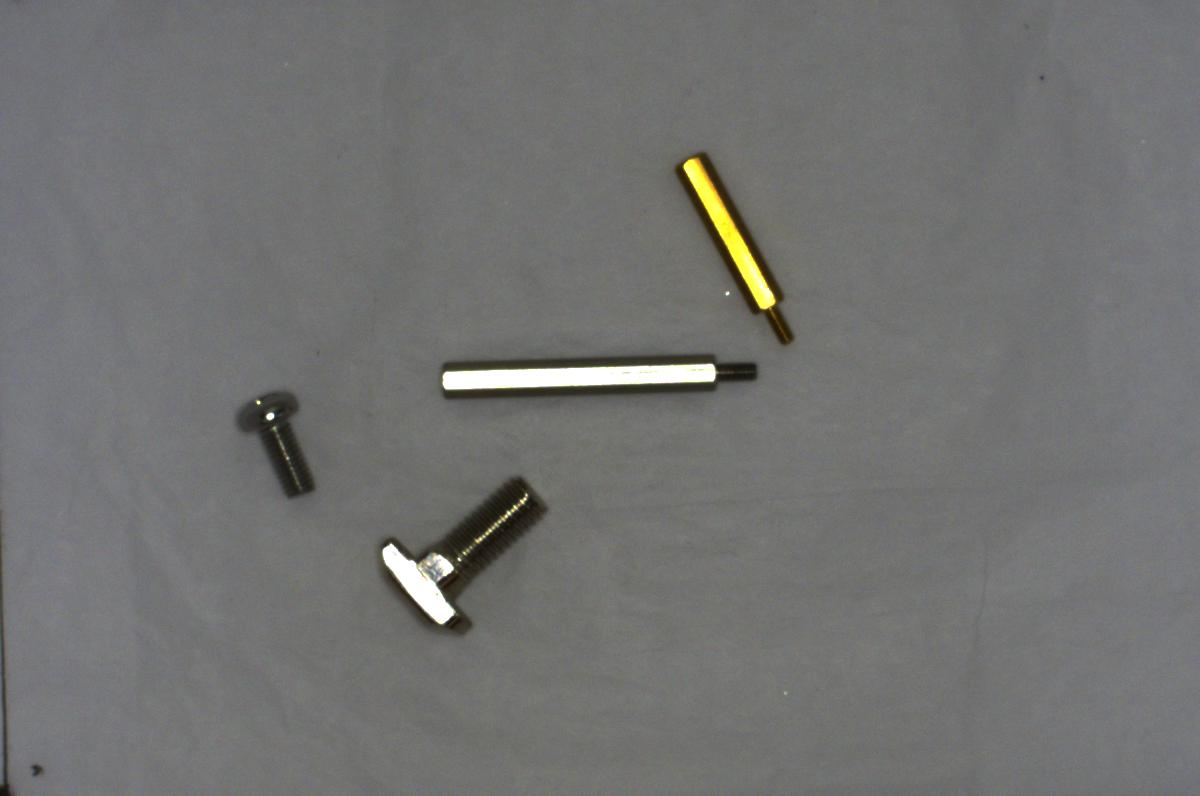Hexagon pillar: (668, 145, 810, 352)
Hexagonal steel column: (438, 341, 768, 403)
Round head screw: (226, 380, 325, 503)
T-shaped screw: (367, 458, 557, 649)
